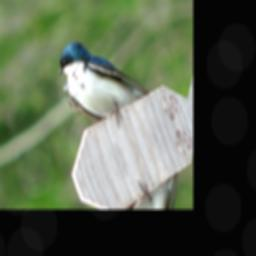Swallow: (49, 9, 156, 151)
